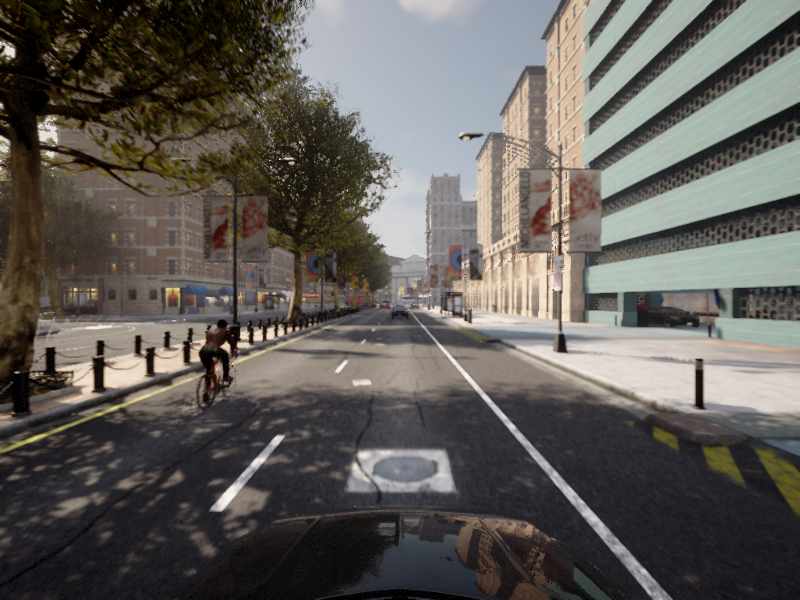vehicle: (1, 1, 799, 476), (1, 1, 799, 473), (180, 318, 250, 416), (391, 305, 408, 318), (295, 303, 305, 317)
